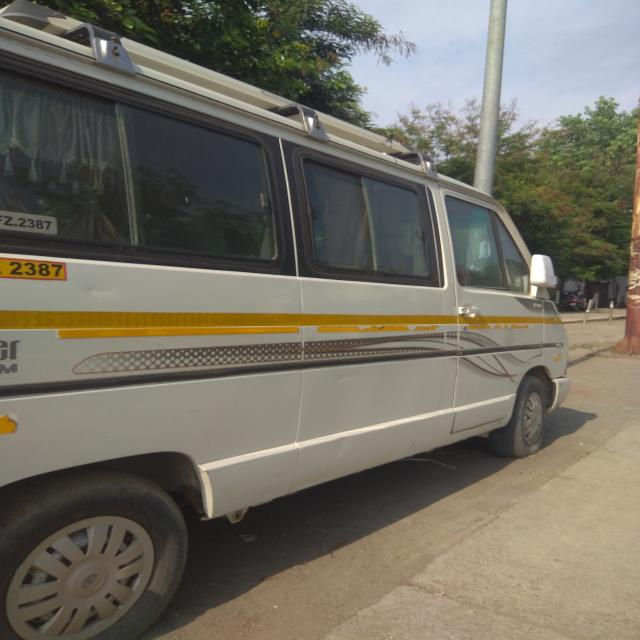Traveller: (0, 0, 572, 640)
